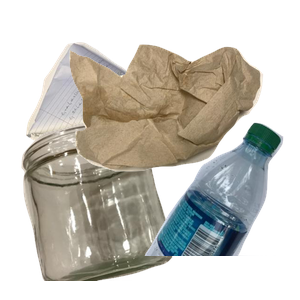glass: (19, 120, 184, 300)
paper: (23, 40, 223, 180)
plastic: (142, 120, 300, 300)
trash: (67, 42, 300, 206)
